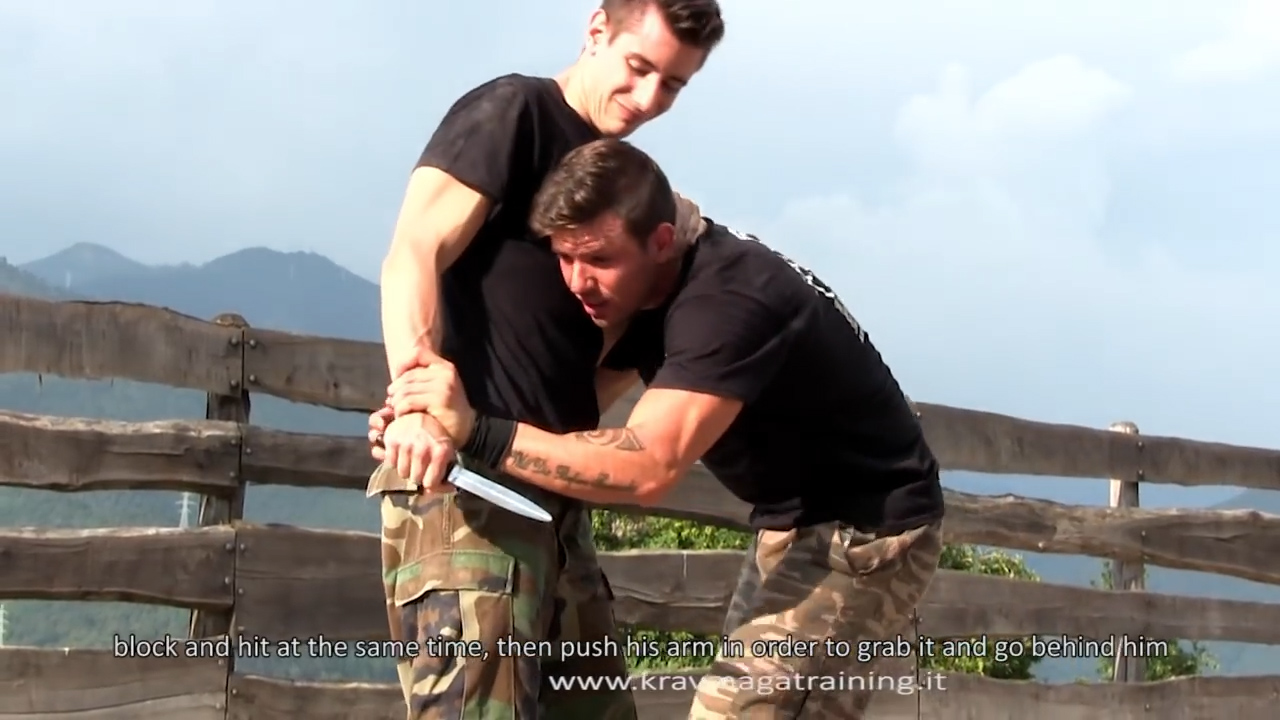knife: (376, 419, 558, 534)
